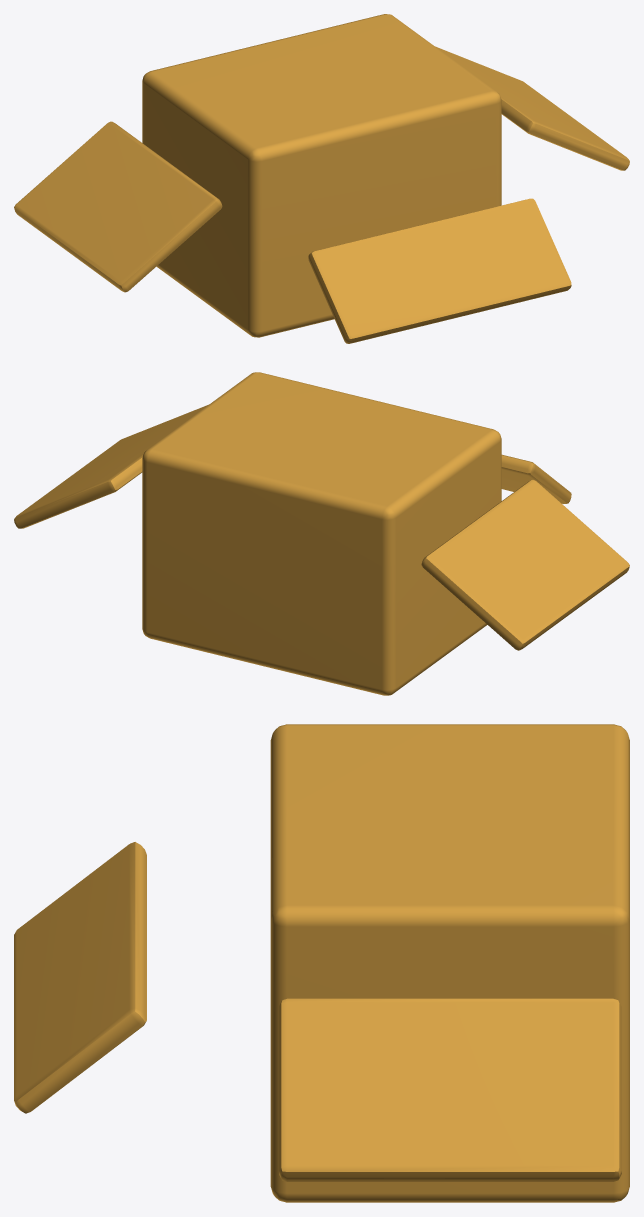
File: prop_cardboard_box.glb
3 renders of one model, top to bottom at view 1: azimuth 30°, elevation 25°; view 2: azimuth 150°, elevation 25°; view 3: azimuth 270°, elevation 25°, orthographic. The views are drawn at different scales.
Visible parts, largest first — view 1: card_body, card_flap_f, card_flap_l, card_flap_r; view 2: card_body, card_flap_l, card_flap_r, card_flap_f; view 3: card_body, card_flap_r, card_flap_f.
Part boxes in pixels (bbox=[...]): card_body: bbox=[142, 14, 501, 337]; card_flap_f: bbox=[308, 198, 571, 343]; card_flap_l: bbox=[14, 121, 222, 292]; card_flap_r: bbox=[435, 46, 629, 170]; card_body: bbox=[142, 372, 501, 695]; card_flap_l: bbox=[421, 480, 629, 650]; card_flap_r: bbox=[14, 405, 207, 528]; card_flap_f: bbox=[501, 454, 571, 503]; card_body: bbox=[270, 724, 629, 1202]; card_flap_r: bbox=[279, 998, 621, 1181]; card_flap_f: bbox=[14, 842, 146, 1113].
Size of the model in its own units: 1.13 by 0.4 by 0.7543.
